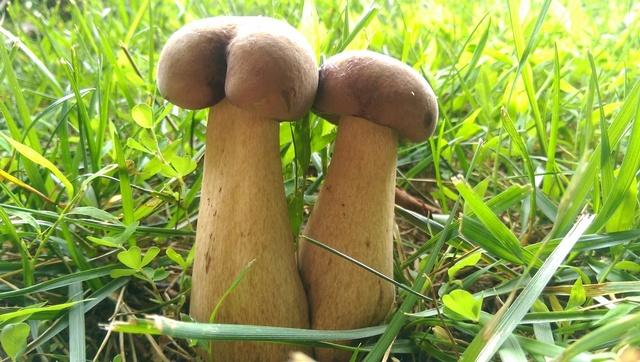poisonous_mushroom: (154, 14, 319, 360), (296, 48, 439, 359)
